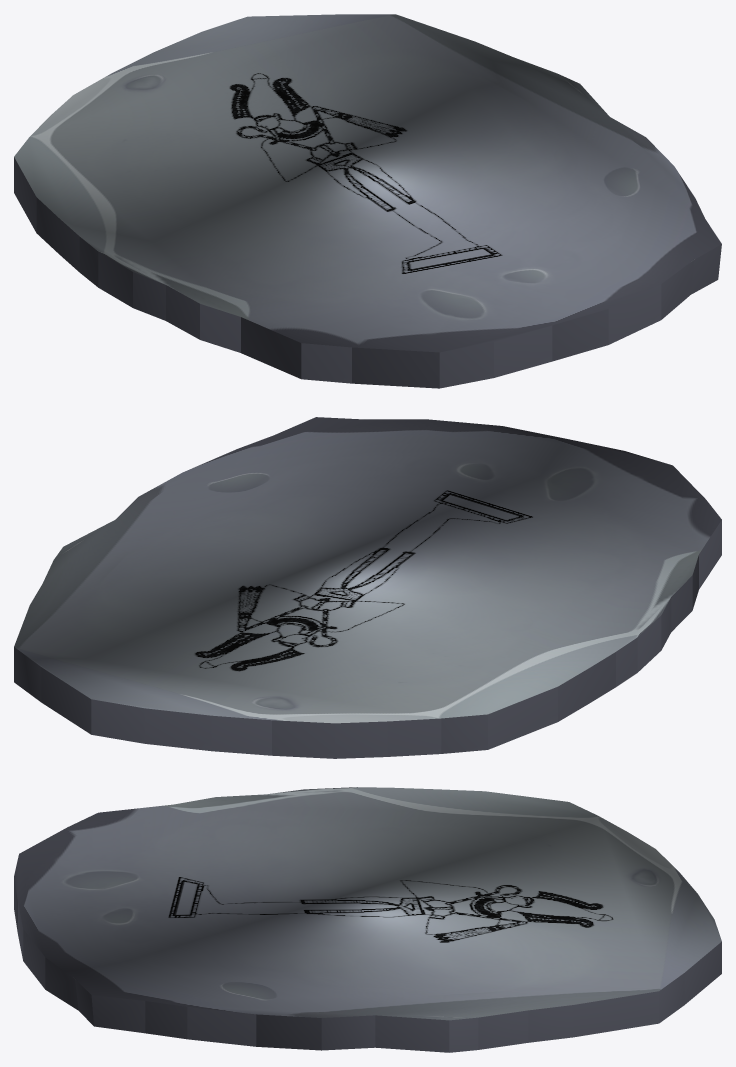
File: runeOsiris.glb
3 renders of one model, top to bottom at view 1: azimuth 30°, elevation 25°; view 2: azimuth 150°, elevation 25°; view 3: azimuth 270°, elevation 25°, orthographic. The views are drawn at different scales.
Visible parts, largest first — view 1: rune; view 2: rune; view 3: rune.
Part boxes in pixels (x1,y1,x2,y2): rune: (14,14,721,388); rune: (14,417,721,758); rune: (14,787,721,1052).
Size of the model in its own units: 0.7844 by 0.0509 by 1.01.
Materials: 1 (1 with a texture image).
